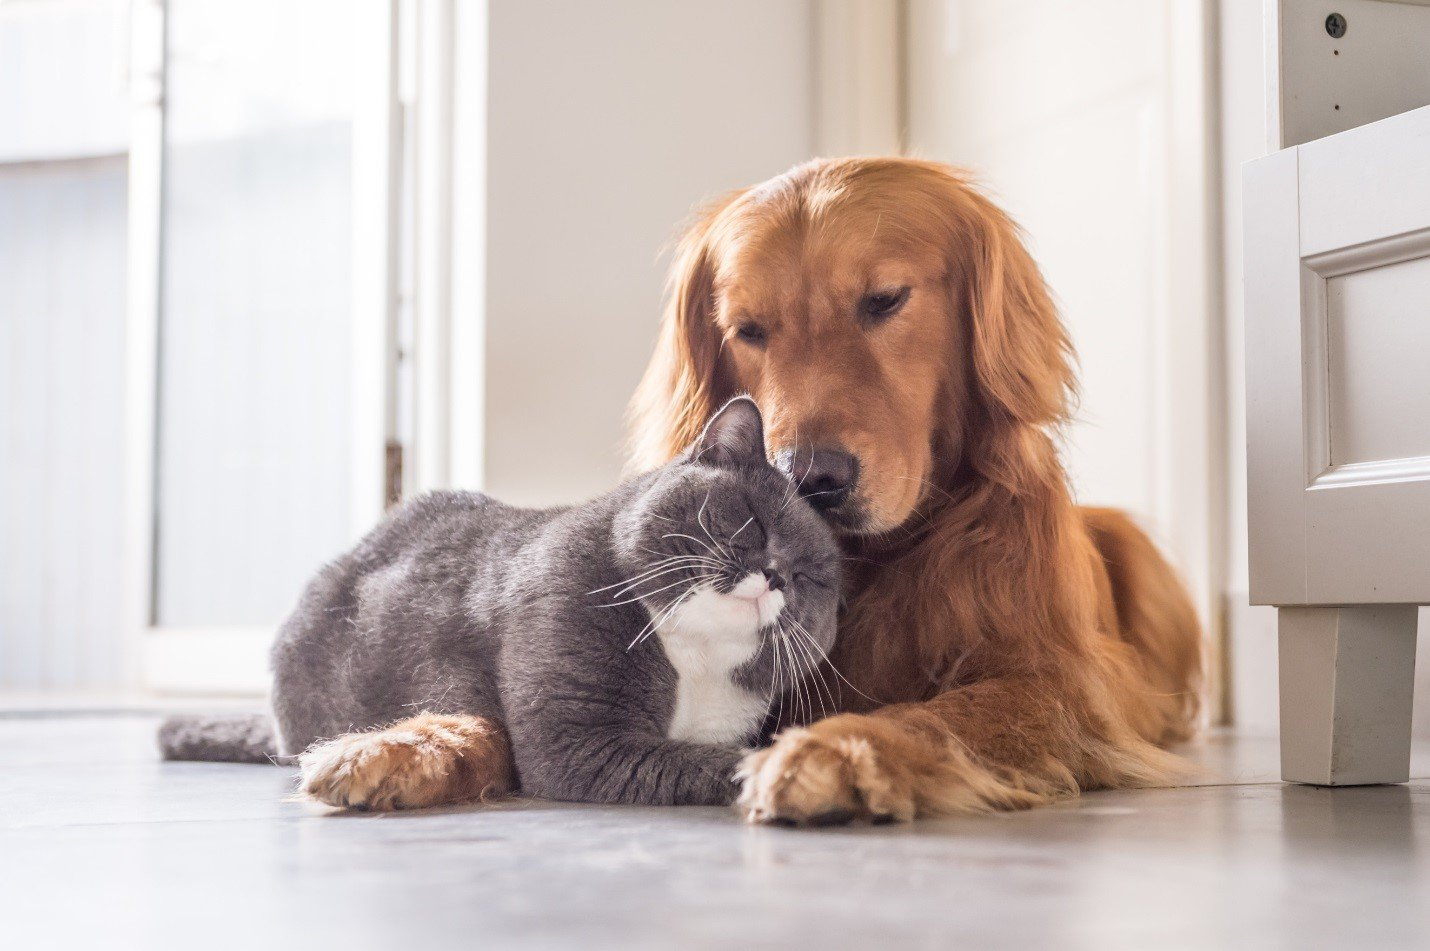cat: (293, 393, 852, 833)
dog: (639, 143, 1222, 805)
